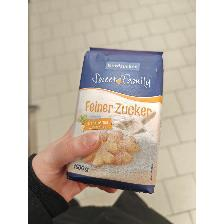Zucker: (64, 47, 168, 195)
